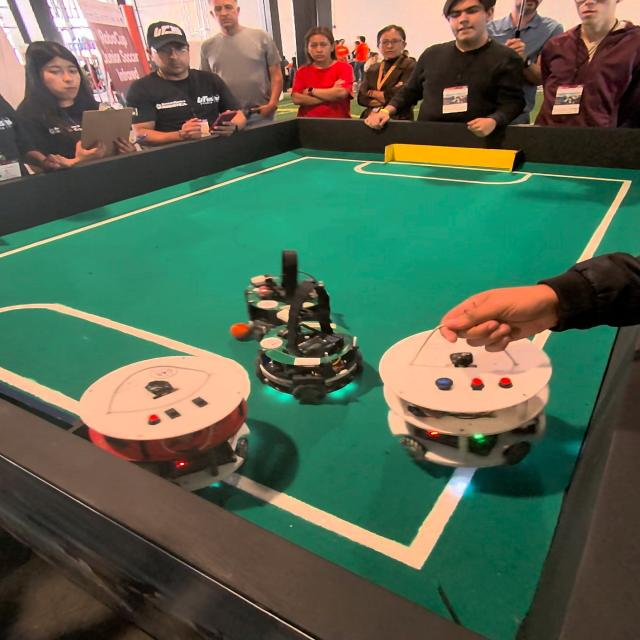Robot: (380, 298, 560, 477), (68, 342, 280, 477), (254, 283, 378, 412), (245, 247, 328, 337)
pelota: (232, 322, 251, 338)
